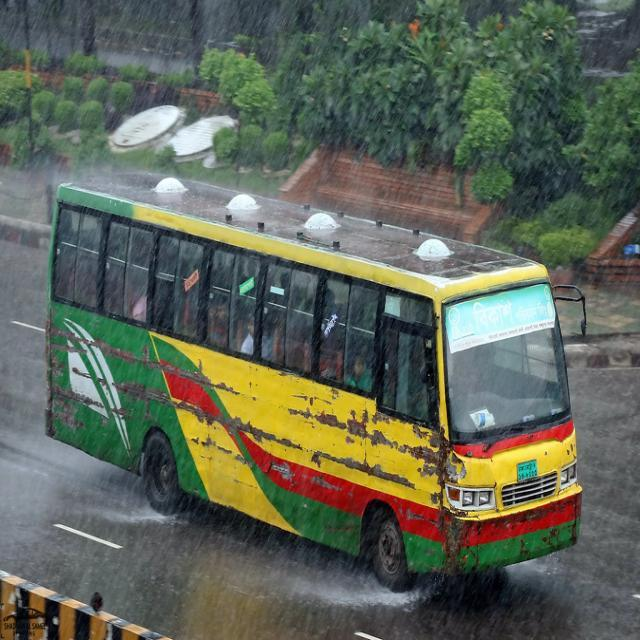Bus: (49, 147, 597, 597)
